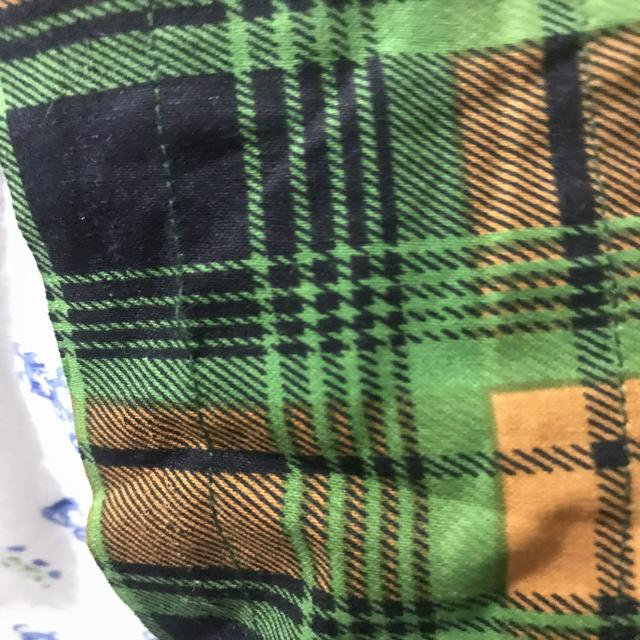good: (150, 119, 204, 246)
skip: (134, 284, 214, 358)
